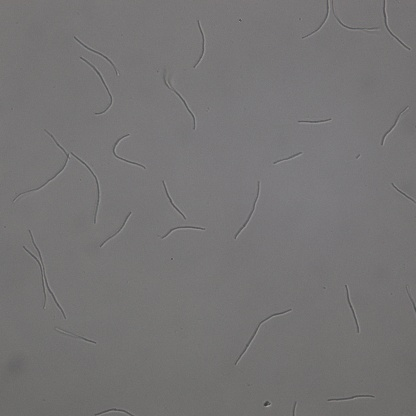Sensitive: (15, 129, 69, 200), (23, 230, 66, 317), (235, 307, 291, 365), (72, 153, 102, 223), (82, 58, 113, 116), (166, 73, 197, 129), (75, 36, 119, 72), (332, 1, 381, 31), (382, 1, 410, 50), (236, 181, 260, 236), (112, 134, 145, 169), (381, 105, 408, 144), (100, 213, 131, 246), (304, 1, 330, 38), (162, 181, 185, 219), (345, 285, 360, 331), (194, 20, 208, 68), (162, 224, 205, 238), (56, 328, 96, 343), (328, 391, 375, 403), (392, 184, 416, 203), (273, 151, 303, 164), (91, 408, 135, 416), (298, 115, 331, 124)
